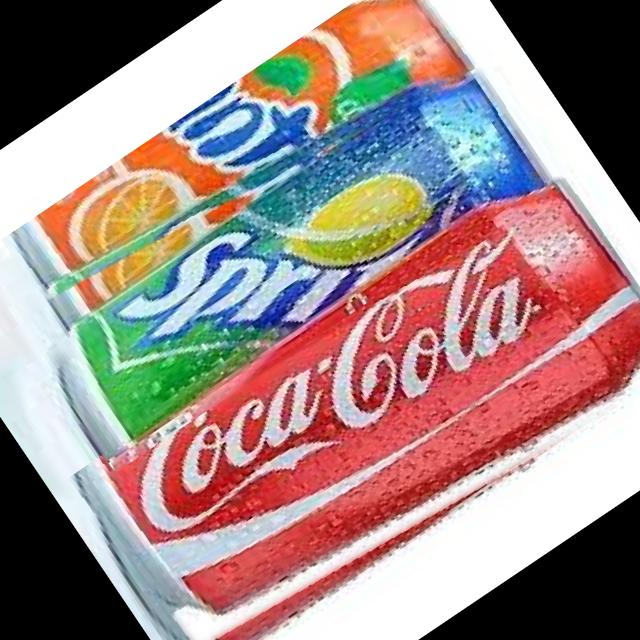Cans: (65, 153, 640, 640), (29, 48, 558, 474), (0, 0, 479, 344)
